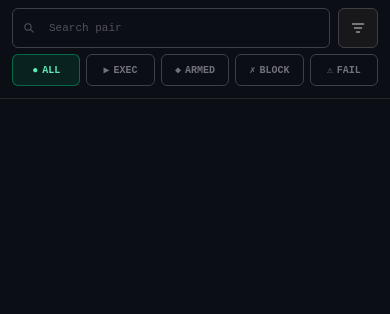
Test: mobile scanner filters › applies an advanced mobile filter and exposes the active count
This screenshot has width=390, height=314.
Click the button named "Filters": click(358, 28) [338,8,378,48]
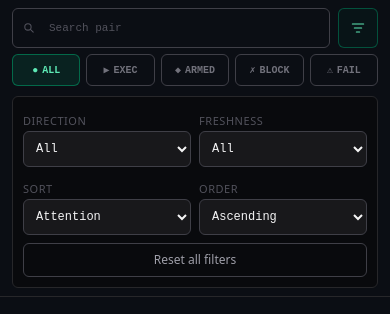
Select "Long" in the dropdown labelled "Direction": (107, 149) [23,131,191,167]
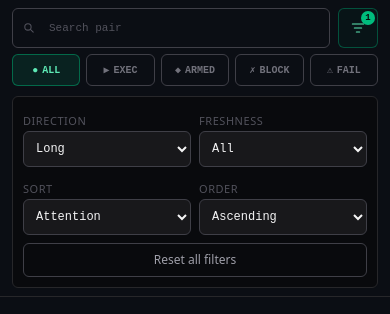
Now the button named "Filters (1 active)" is shown, box [338,8,378,48]
